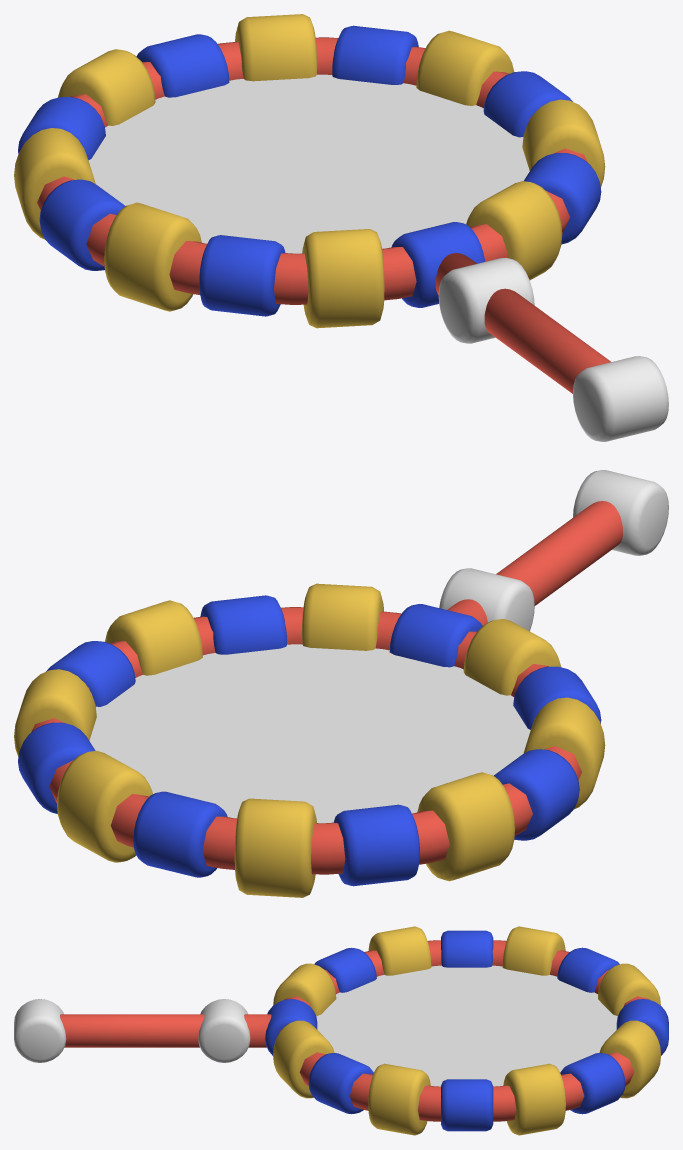
Rendered from poi.fbx.
3 views of the same model, one above another, from view 1: azimuth 30°, elevation 25°; view 2: azimuth 150°, elevation 25°; view 3: azimuth 270°, elevation 25° (orthographic). The views are drawn at different scales.
Visible parts, largest first — view 1: surface_1, Torus_3, Torus_2, Torus; view 2: surface_1, Torus_2, Torus_3, Torus; view 3: surface_1, Torus_3, Torus_2, Torus.
Part boxes in pixels (box(x1,y1,x2,y2)): surface_1: box(88, 74, 529, 253); Torus_3: box(18, 25, 668, 441); Torus_2: box(14, 14, 605, 328); Torus: box(37, 37, 610, 393); surface_1: box(89, 644, 530, 823); Torus_2: box(14, 583, 605, 897); Torus_3: box(18, 470, 668, 886); Torus: box(31, 501, 622, 874); surface_1: box(316, 965, 617, 1086); Torus_3: box(14, 930, 668, 1131); Torus_2: box(273, 926, 660, 1135); Torus: box(60, 940, 654, 1121).
Bounding box in the file's own units: 2.41 × 0.412 × 3.91.
